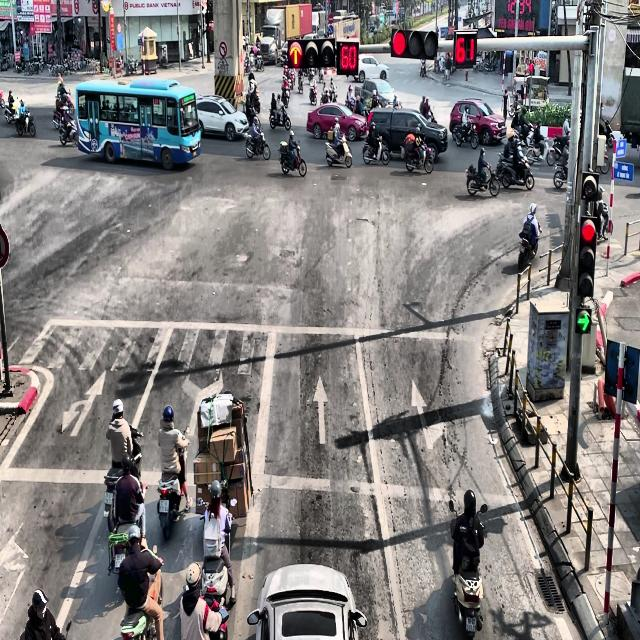BUS: (76, 78, 202, 170)
CAR: (247, 563, 367, 639), (449, 98, 507, 146), (196, 94, 249, 141), (306, 102, 368, 142), (359, 78, 402, 110), (352, 55, 390, 82)
MOTORBIKE: (449, 502, 487, 638), (120, 544, 164, 640), (197, 498, 233, 608), (103, 425, 143, 523), (157, 426, 190, 541), (587, 186, 611, 241), (500, 154, 534, 190), (466, 162, 500, 197), (518, 223, 542, 269), (278, 138, 307, 176), (404, 138, 434, 174), (325, 132, 352, 168), (362, 132, 390, 165), (58, 107, 79, 146), (53, 91, 74, 130), (452, 118, 479, 148), (245, 129, 270, 160), (547, 134, 569, 166), (553, 147, 569, 188), (269, 104, 291, 130), (15, 110, 35, 136), (600, 117, 615, 148), (508, 90, 523, 116), (4, 99, 20, 123), (309, 81, 317, 105), (425, 106, 436, 122), (320, 86, 329, 105), (328, 86, 338, 102), (420, 60, 427, 77), (298, 74, 304, 93)
TRAFFIC_LIGHT: (576, 215, 596, 298), (389, 26, 438, 59), (453, 29, 478, 68), (337, 41, 359, 75)
